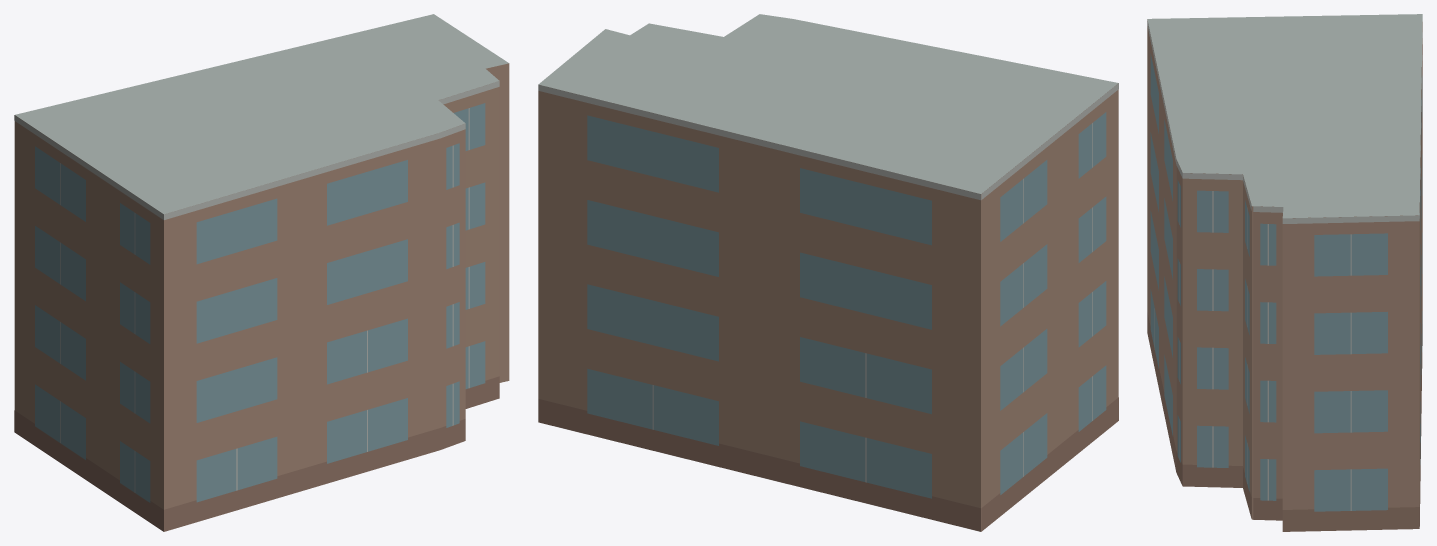
The model's file is survey-upis-32628448.glb.
3 renders of one model, left to right at view 1: azimuth 30°, elevation 25°; view 2: azimuth 150°, elevation 25°; view 3: azimuth 270°, elevation 25°, orthographic. The views are drawn at different scales.
Visible parts, largest first — view 1: survey-upis-32628448.tmp; view 2: survey-upis-32628448.tmp; view 3: survey-upis-32628448.tmp.
Boxes of the visible parts, box(x1,y1,x2,y2) form: survey-upis-32628448.tmp: box(14, 14, 509, 531); survey-upis-32628448.tmp: box(538, 14, 1118, 531); survey-upis-32628448.tmp: box(1147, 14, 1422, 531).
Bounding box in the file's own units: 18.46 × 13.2 × 10.51.
